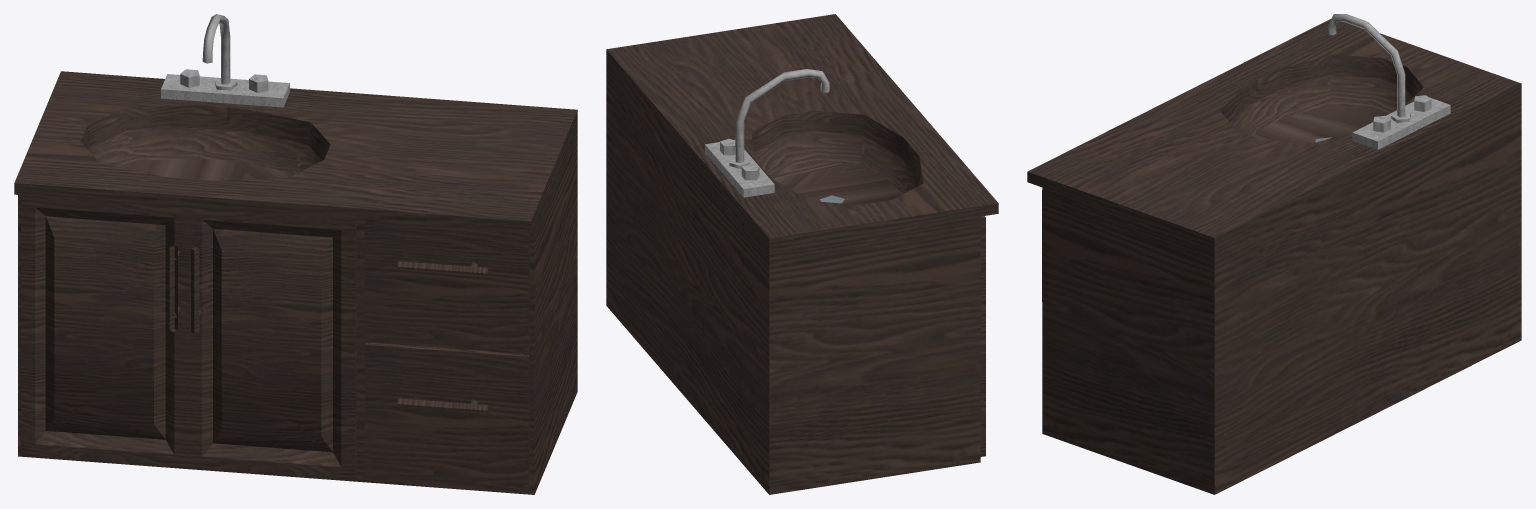
The picture shows the model from 3 angles, left to right: view 1: azimuth 30°, elevation 25°; view 2: azimuth 150°, elevation 25°; view 3: azimuth 270°, elevation 25°; orthographic projection. The views are drawn at different scales.
Parts seen in each view (by area): view 1: Washbasin_07001_Plastic_06_0, Washbasin_door_03001_Metal_04002_0, Washbasin_door_02001_Metal_04002_0, Washbasin_drawer_05001_Metal_04002_0, Washbasin_drawer_04001_Metal_04002_0, Washbasin_07001_Metal_01001_0; view 2: Washbasin_07001_Plastic_06_0, Washbasin_07001_Metal_01001_0, Washbasin_door_02001_Metal_04002_0; view 3: Washbasin_07001_Plastic_06_0, Washbasin_07001_Metal_01001_0.
Part boxes in pixels (bbox=[...]): Washbasin_07001_Plastic_06_0: bbox=[14, 71, 577, 494]; Washbasin_door_03001_Metal_04002_0: bbox=[188, 207, 356, 480]; Washbasin_door_02001_Metal_04002_0: bbox=[21, 195, 188, 468]; Washbasin_drawer_05001_Metal_04002_0: bbox=[364, 342, 529, 491]; Washbasin_drawer_04001_Metal_04002_0: bbox=[364, 220, 529, 354]; Washbasin_07001_Metal_01001_0: bbox=[161, 14, 289, 107]; Washbasin_07001_Plastic_06_0: bbox=[606, 14, 998, 494]; Washbasin_07001_Metal_01001_0: bbox=[705, 69, 829, 197]; Washbasin_door_02001_Metal_04002_0: bbox=[980, 216, 985, 456]; Washbasin_07001_Plastic_06_0: bbox=[1027, 19, 1521, 494]; Washbasin_07001_Metal_01001_0: bbox=[1327, 14, 1450, 149].
Bounding box in the file's own units: 1.43 × 1.06 × 1.36.
3 materials, 3 textured.
